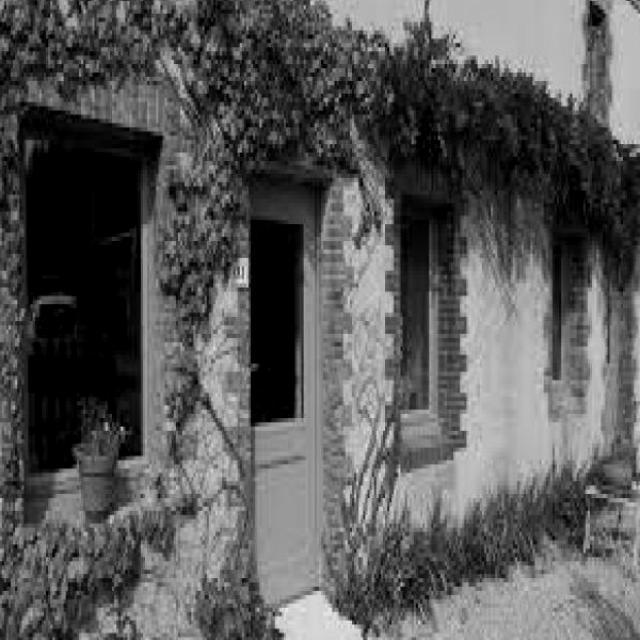door: (248, 211, 322, 608)
